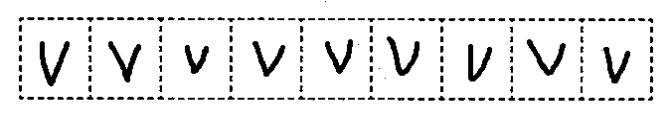V: (31, 35, 75, 88), (104, 33, 148, 84), (382, 32, 426, 81), (522, 35, 571, 79), (248, 35, 290, 82), (598, 43, 638, 89), (319, 34, 357, 82), (177, 38, 218, 81), (463, 40, 502, 82)
